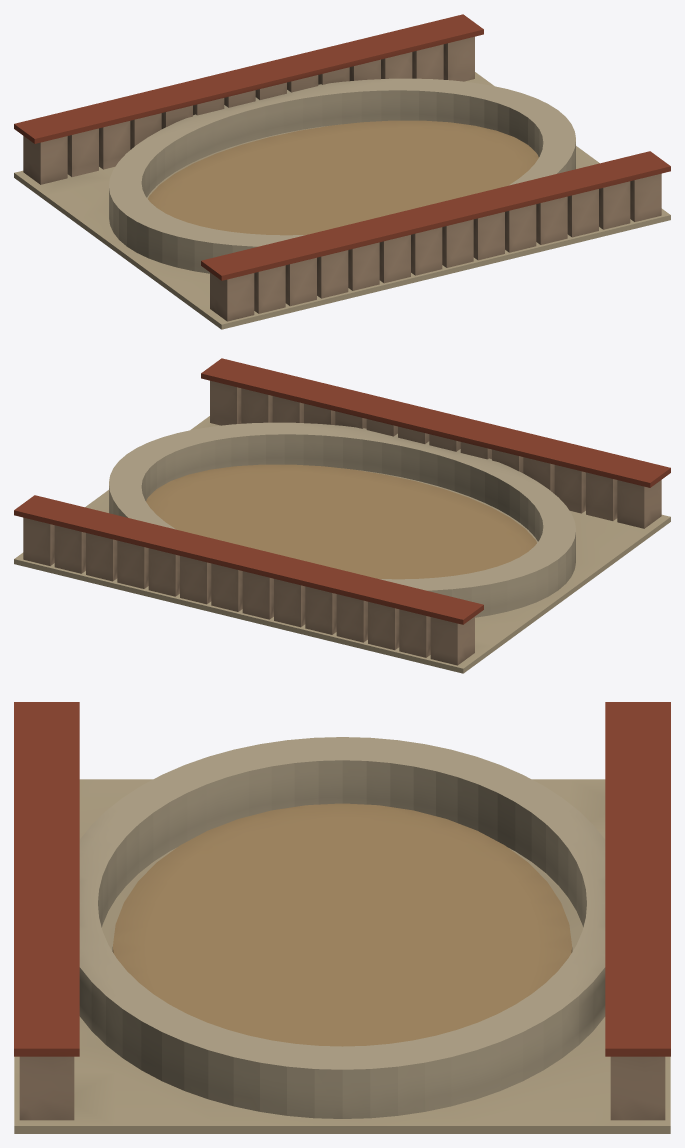
File: ludus-magnus.glb
3 renders of one model, top to bottom at view 1: azimuth 30°, elevation 25°; view 2: azimuth 150°, elevation 25°; view 3: azimuth 270°, elevation 25°, orthographic. The views are drawn at different scales.
Parts seen in each view (by area): view 1: p2_cells, p0_ground, p1_seats; view 2: p2_cells, p0_ground, p1_seats; view 3: p0_ground, p1_seats, p2_cells.
Boxes of the visible parts, box(x1,y1,x2,y2) form: p2_cells: box(14, 14, 670, 321); p0_ground: box(14, 72, 670, 329); p1_seats: box(109, 78, 575, 273); p2_cells: box(14, 358, 670, 665); p0_ground: box(14, 416, 670, 673); p1_seats: box(109, 422, 575, 617); p0_ground: box(14, 779, 670, 1133); p1_seats: box(79, 737, 605, 1118); p2_cells: box(14, 702, 670, 1120).
Bounding box in the file's own units: 75 × 8.6 × 60.06.
